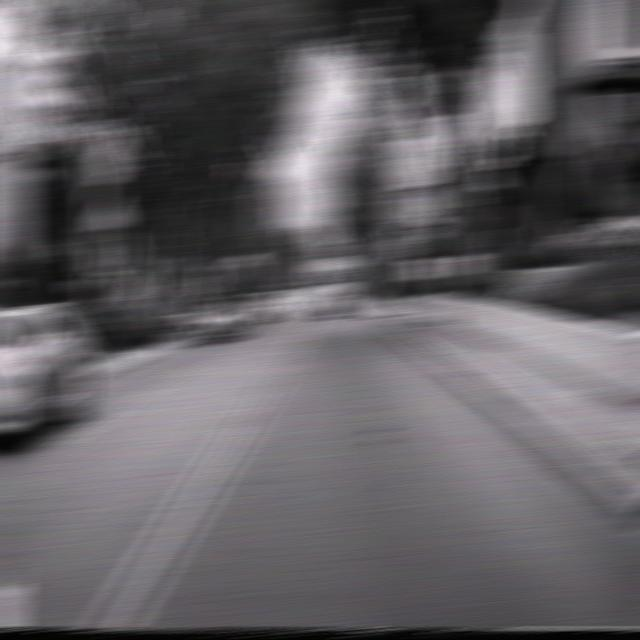speedLimit25: (386, 217, 412, 246)
